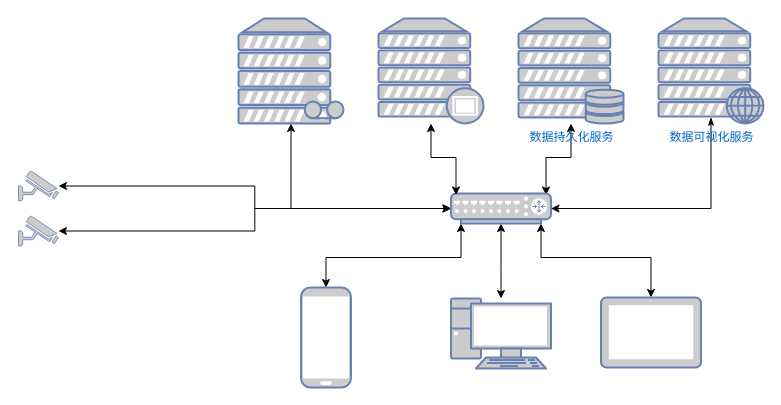
Some shapes in this 781 by 405 pixel diagram are drawn without their labels. Here are the shapes that lost their labels. From the top down, the box of each, then its label:
(237, 17, 344, 124): 数据接入服务
(377, 17, 484, 124): 数据处理服务
